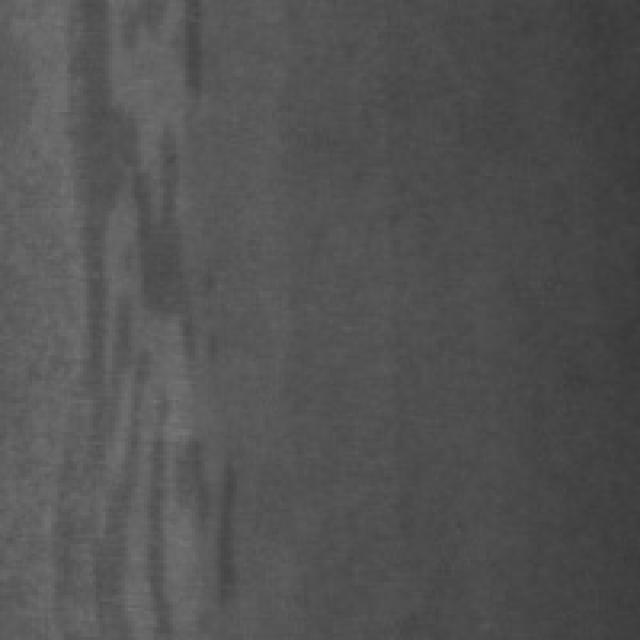inclusion: (68, 0, 246, 627)
